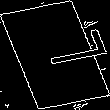L_W: (14, 33, 96, 77)
